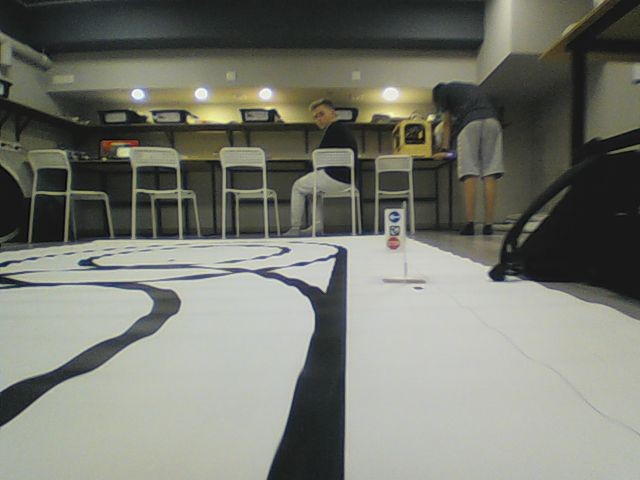Stop: (386, 236, 402, 250)
